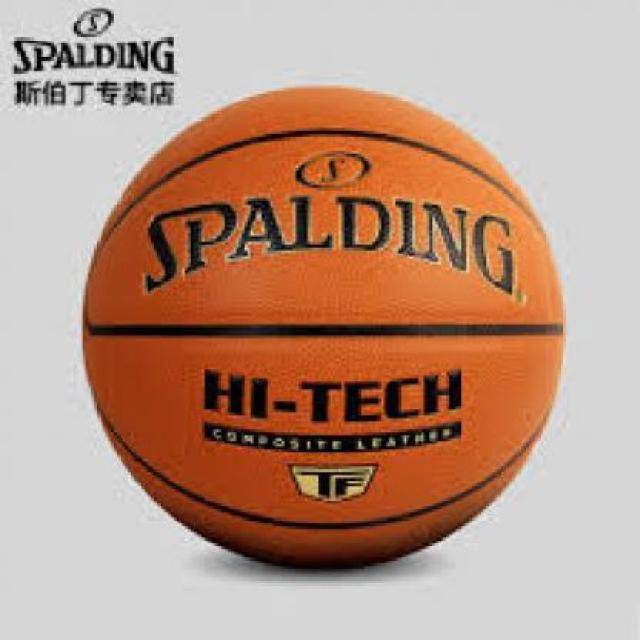basketball: (87, 85, 561, 567)
